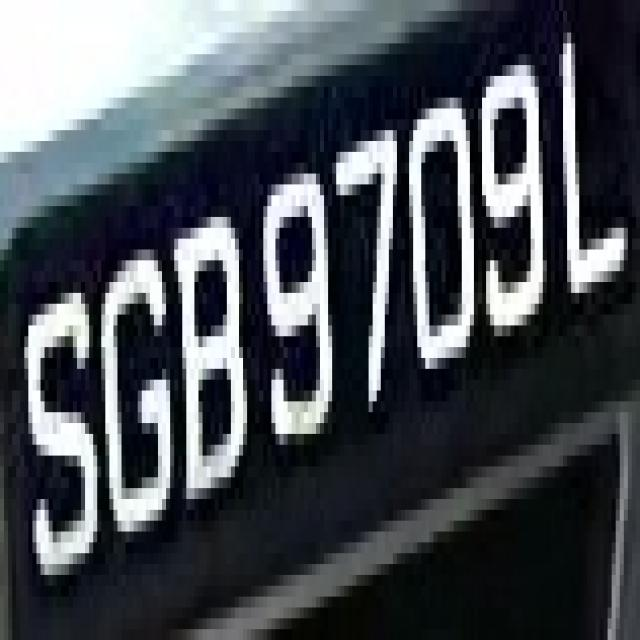0: (401, 43, 474, 434)
7: (324, 120, 421, 412)
9: (466, 33, 559, 347), (251, 174, 336, 488)
B: (166, 206, 255, 521)
G: (93, 249, 174, 575)
L: (551, 11, 632, 325)
S: (16, 271, 97, 597)
